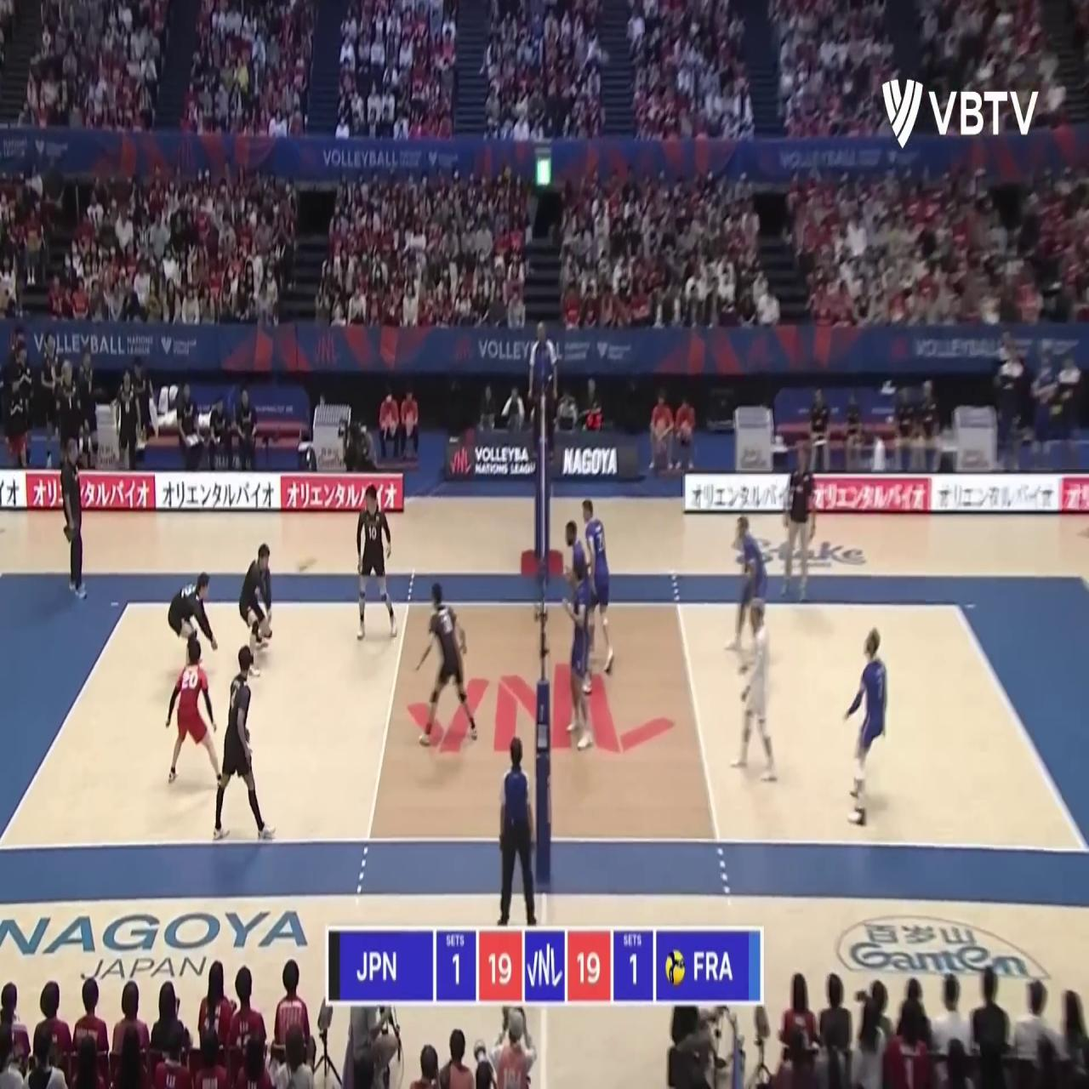ball: (295, 549, 318, 573)
